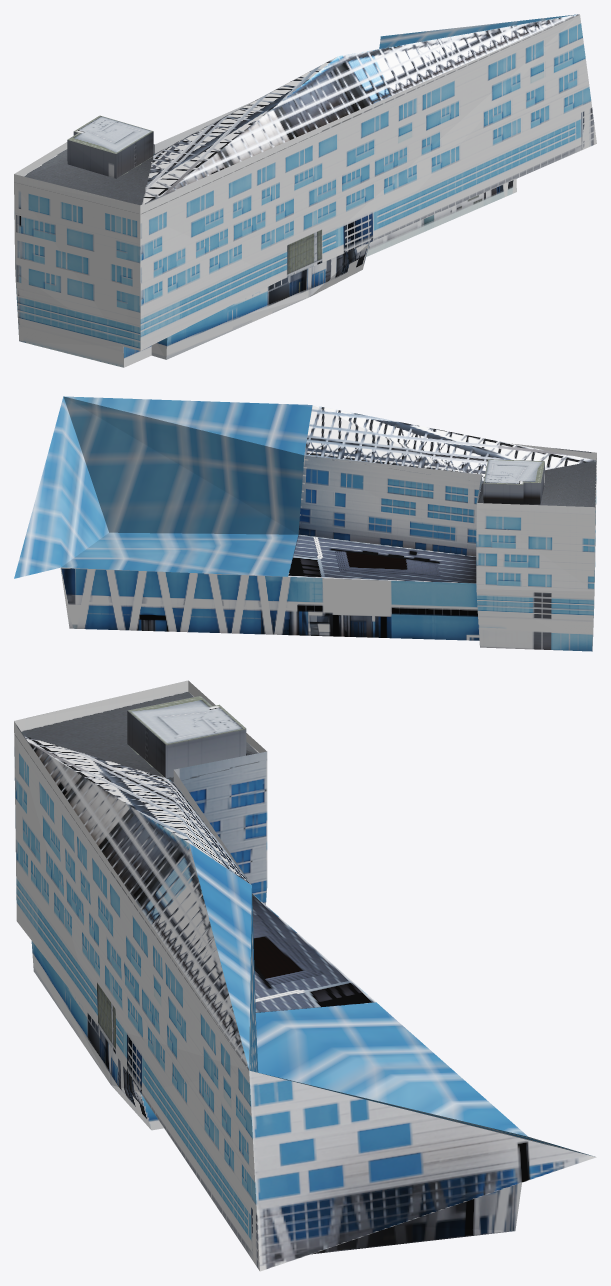
Rendered from 2.14-towerAneww.glb.
3 renders of one model, top to bottom at view 1: azimuth 30°, elevation 25°; view 2: azimuth 150°, elevation 25°; view 3: azimuth 270°, elevation 25°, orthographic. The views are drawn at different scales.
Parts seen in each view (by area): view 1: 2.14-A.001; view 2: 2.14-A.001; view 3: 2.14-A.001.
Part boxes in pixels (bbox=[...]): 2.14-A.001: bbox=[14, 14, 596, 367]; 2.14-A.001: bbox=[14, 396, 596, 651]; 2.14-A.001: bbox=[14, 680, 596, 1271].
Size of the model in its own units: 104 by 33.86 by 63.34.
Materials: 1 (1 with a texture image).
